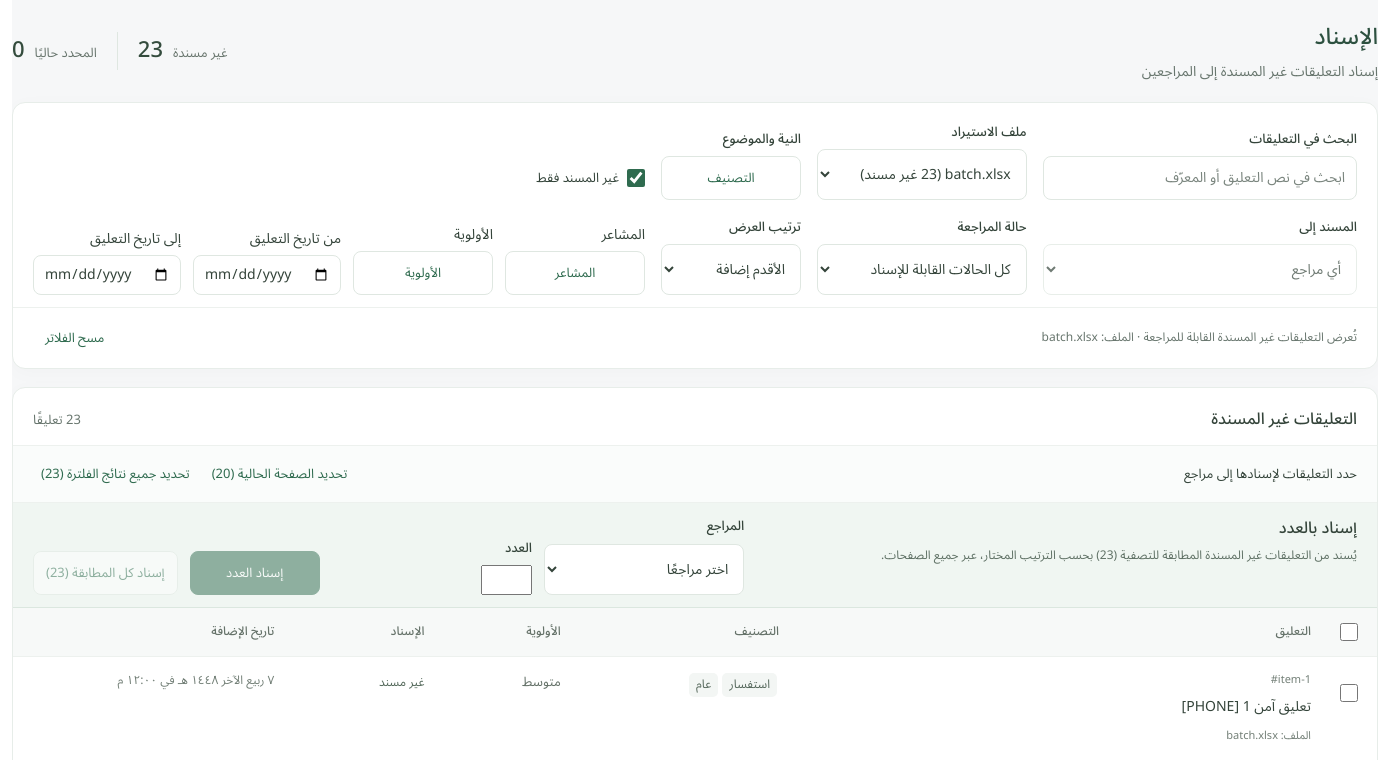
Test: Admin Assignment workspace › assigns a typed count on the server across all pages and reports the actual number
Expected: the checkbox named "تحديد item-1" is shown, 1340,684 -> 1358,702
Select "مراجع اختبار — 5 قيد الإنجاز" in the dropdown named "المراجع للإسناد بالعدد" at point(644, 569), box 544,544 -> 744,595
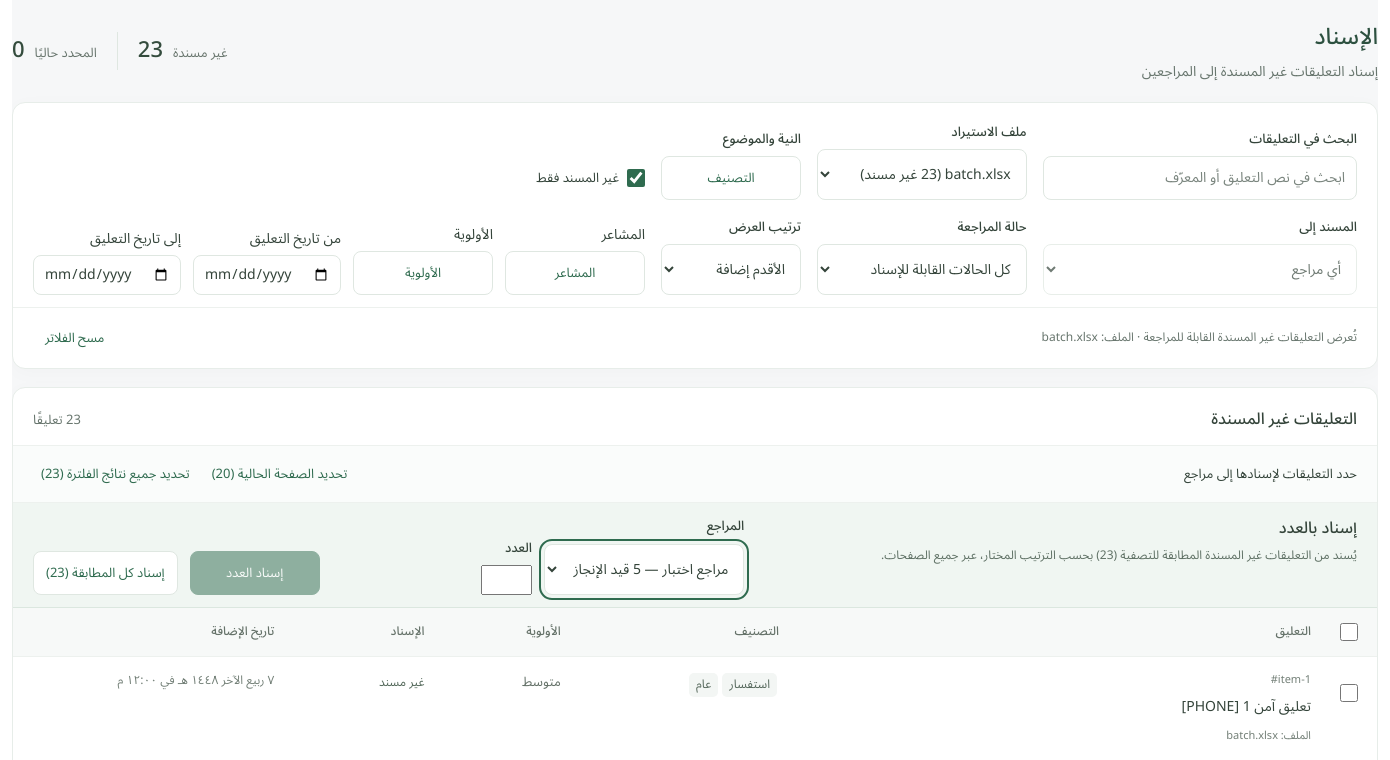
Type "22" into the number field named "عدد التعليقات المطلوب إسنادها" at point(506, 580), box 481,565 -> 532,595
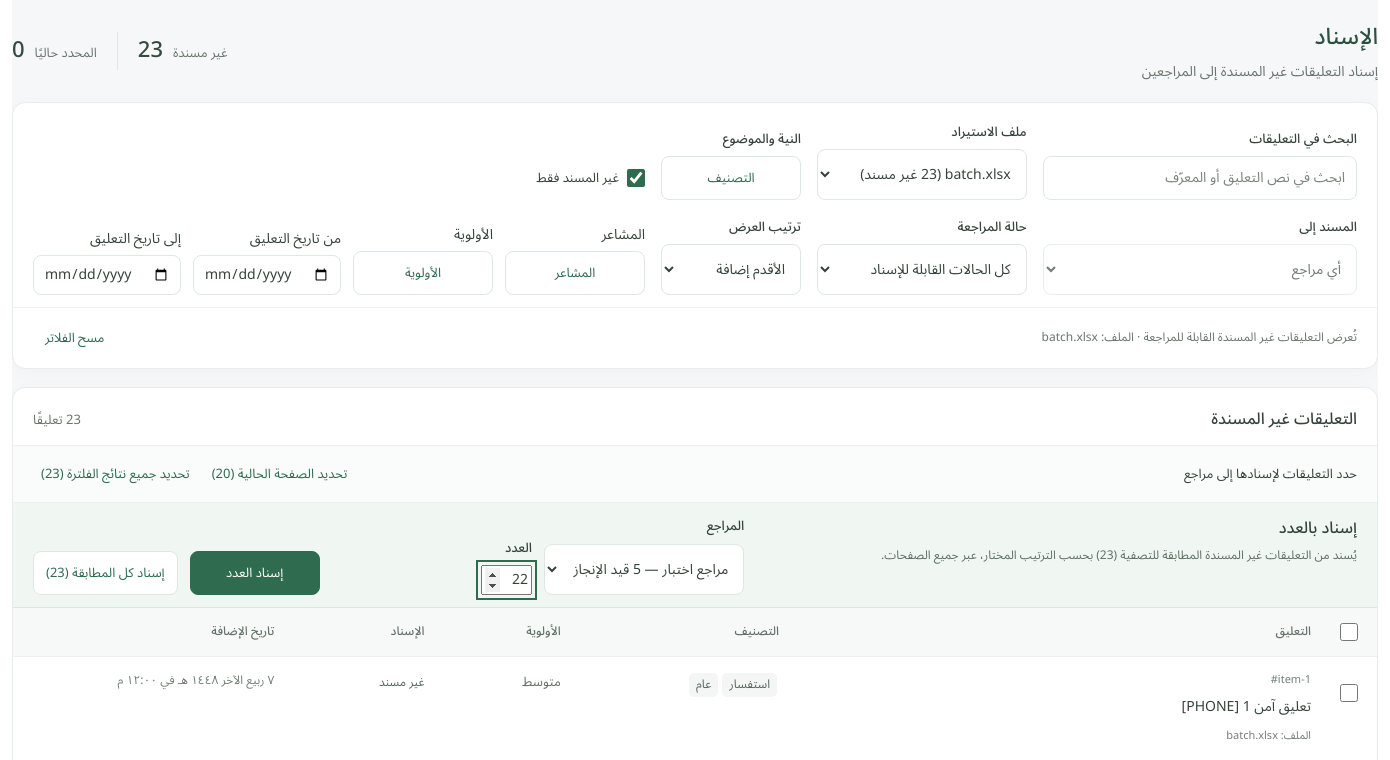
Click the button "إسناد العدد" at point(255, 573), box 190,551 -> 320,595
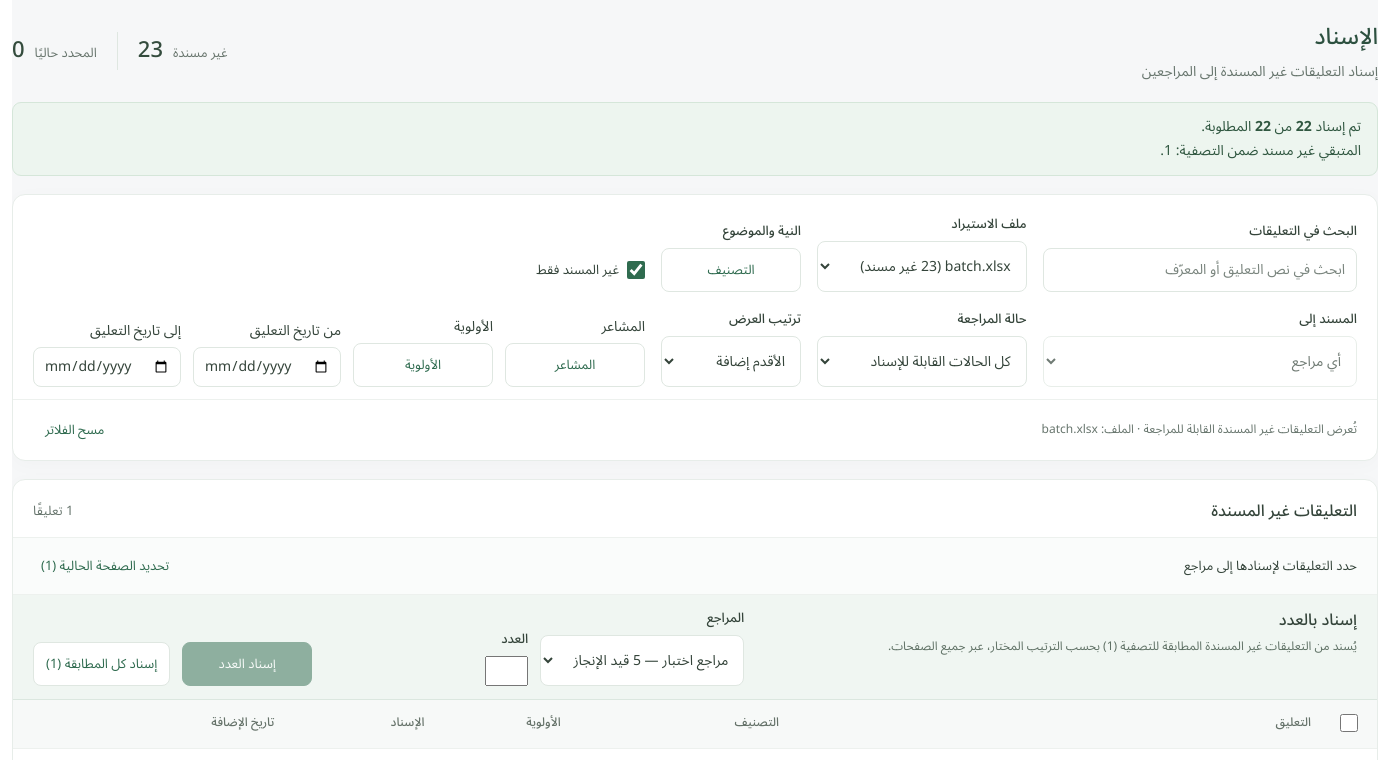
Result: the text "تم إسناد 22 من 22 المطلوبة." is shown at 1201,112 -> 1361,141
Result: the text "المتبقي غير مسند ضمن التصفية: 1." is shown at 1160,136 -> 1361,165
